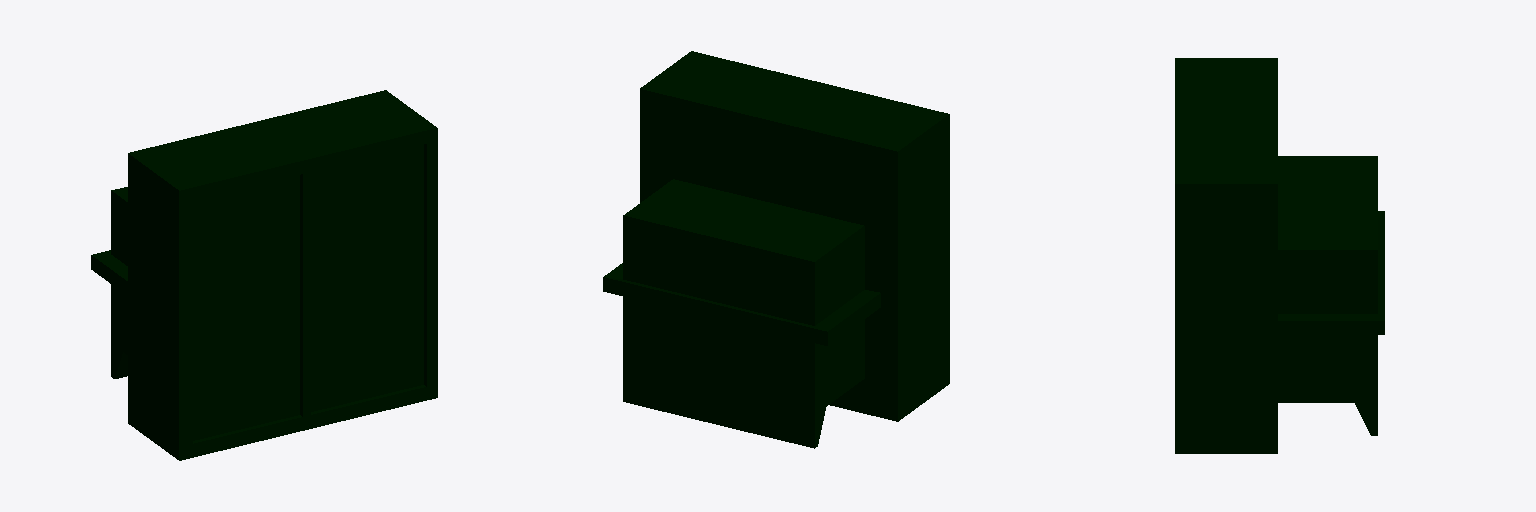
File: transformer2.obj
3 views of the same model, side by side, from view 1: azimuth 30°, elevation 25°; view 2: azimuth 150°, elevation 25°; view 3: azimuth 270°, elevation 25° (orthographic).
Parts seen in each view (by area): view 1: Cube; view 2: Cube; view 3: Cube.
Boxes of the visible parts, x1,y1,x2,y2 form: Cube: [91, 90, 437, 460]; Cube: [603, 51, 949, 448]; Cube: [1175, 58, 1384, 453].
Size of the model in its own units: 2 by 2 by 1.41.